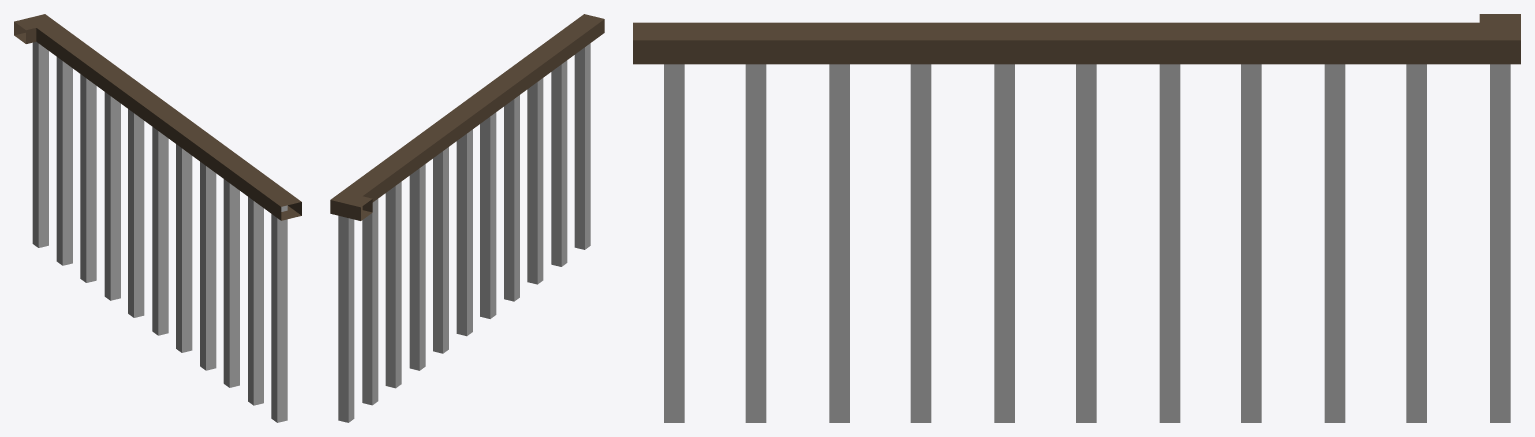
File: SM_StairsU_01_railEnd.glb
The picture shows the model from 3 angles, left to right: view 1: azimuth 30°, elevation 25°; view 2: azimuth 150°, elevation 25°; view 3: azimuth 270°, elevation 25°; orthographic projection. The views are drawn at different scales.
Parts seen in each view (by area): view 1: SM_StairsU_01_railEnd; view 2: SM_StairsU_01_railEnd; view 3: SM_StairsU_01_railEnd.
Boxes of the visible parts, box(x1,y1,x2,y2) form: SM_StairsU_01_railEnd: box(14, 14, 301, 422); SM_StairsU_01_railEnd: box(330, 14, 604, 422); SM_StairsU_01_railEnd: box(633, 14, 1520, 422).
Size of the model in its own units: 0.15 by 1.03 by 2.15.
1 material, 1 textured.
